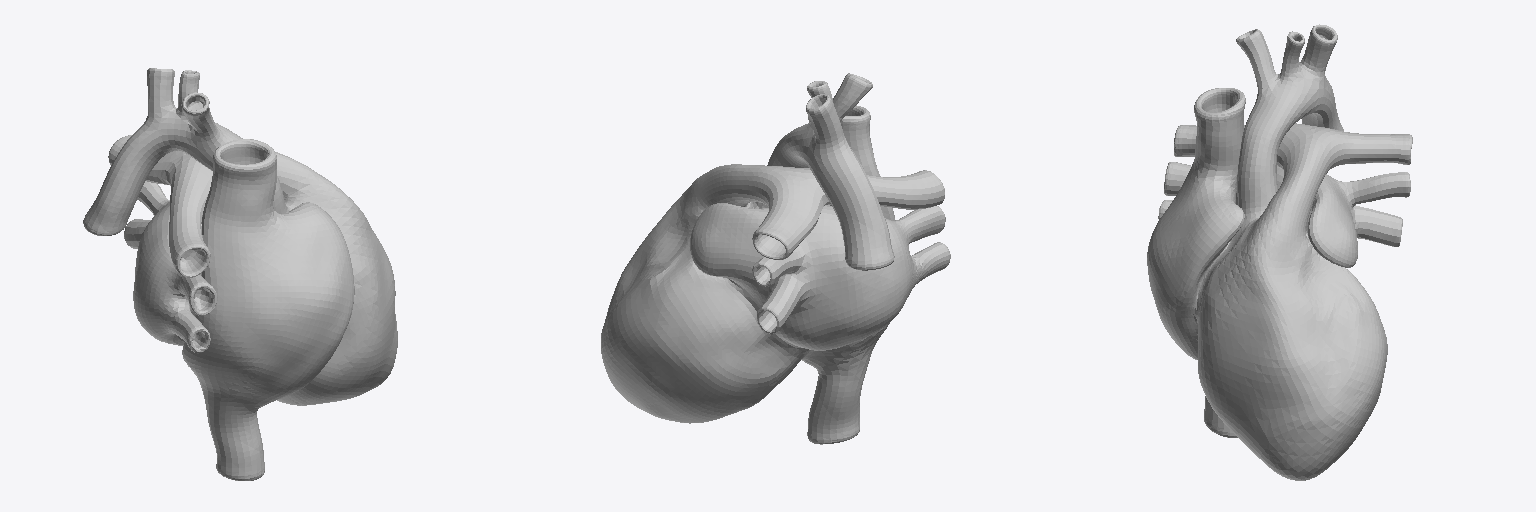
3 views of the same model, side by side, from view 1: azimuth 30°, elevation 25°; view 2: azimuth 150°, elevation 25°; view 3: azimuth 270°, elevation 25° (orthographic).
Parts seen in each view (by area): view 1: HEART_PRO; view 2: HEART_PRO; view 3: HEART_PRO.
Boxes of the visible parts, box(x1,y1,x2,y2) form: HEART_PRO: box(83, 68, 397, 480); HEART_PRO: box(601, 73, 950, 444); HEART_PRO: box(1147, 24, 1412, 480).
Size of the model in its own units: 652 by 822 by 513.